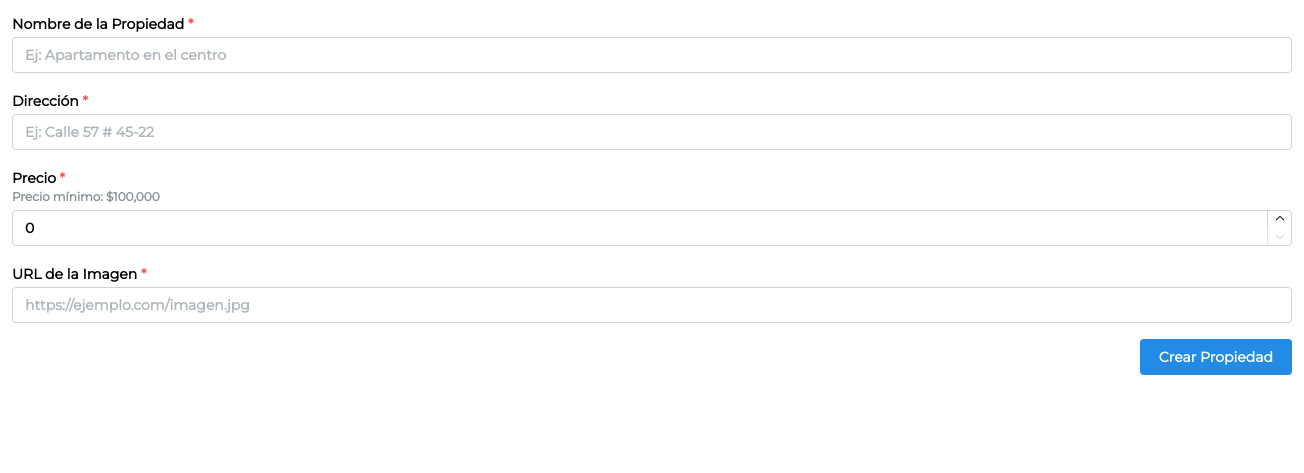
Scenario: PropertyForm › Debería mostrar errores de validación para campos no válidos.
// Llenar con datos inválidos
In the field labelled "Nombre de la Propiedad *": (652, 55) x1=12 y1=37 x2=1292 y2=73, type "Ca"
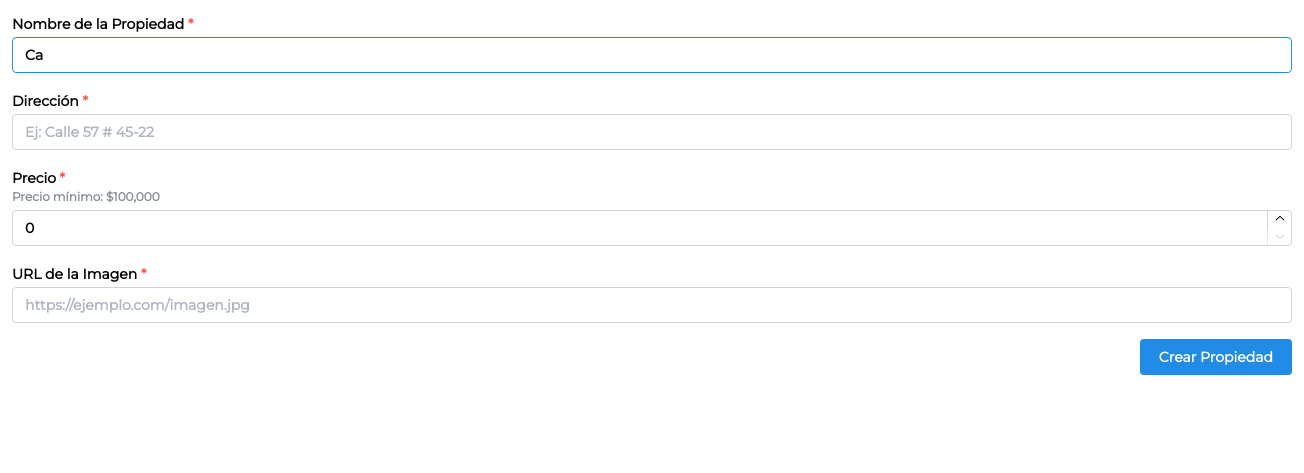
In the field labelled "Dirección *": (652, 132) x1=12 y1=114 x2=1292 y2=150, type "123"
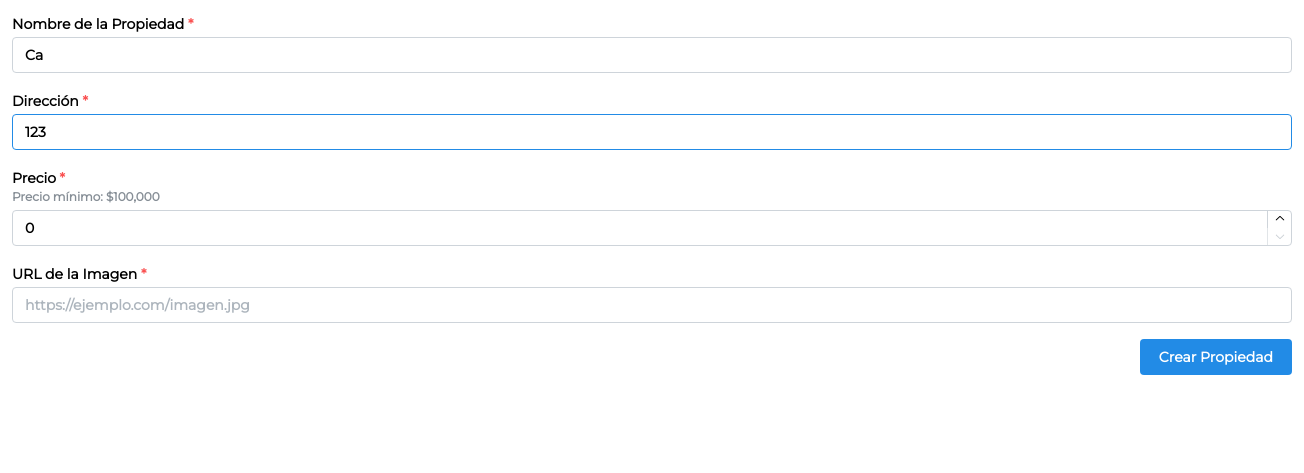
Replace the text in the field labelled "Precio *" with "50000": (652, 228) x1=12 y1=210 x2=1292 y2=246
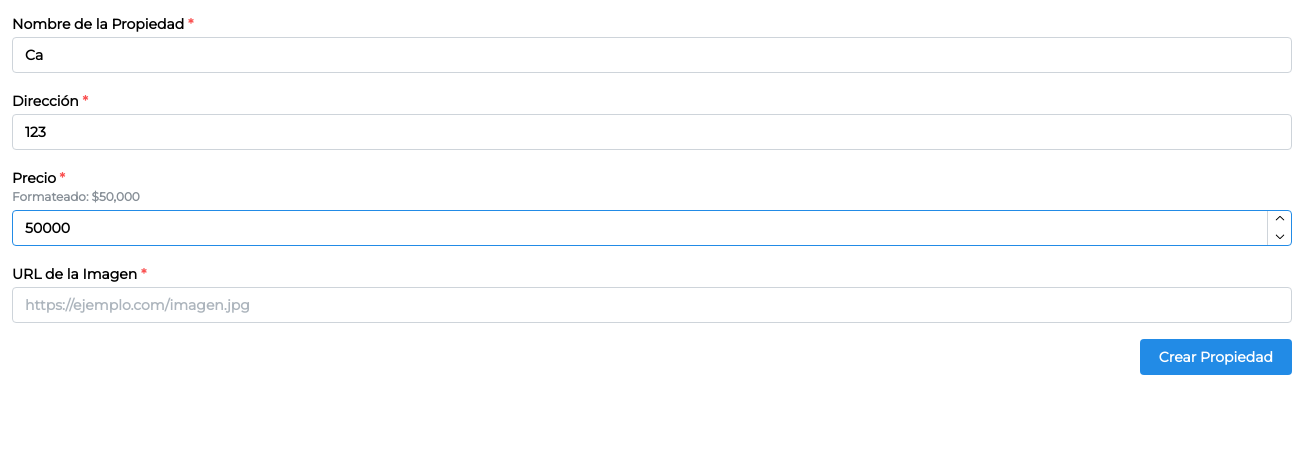
In the field labelled "URL de la Imagen *": (652, 305) x1=12 y1=287 x2=1292 y2=323, type "invalid-url"
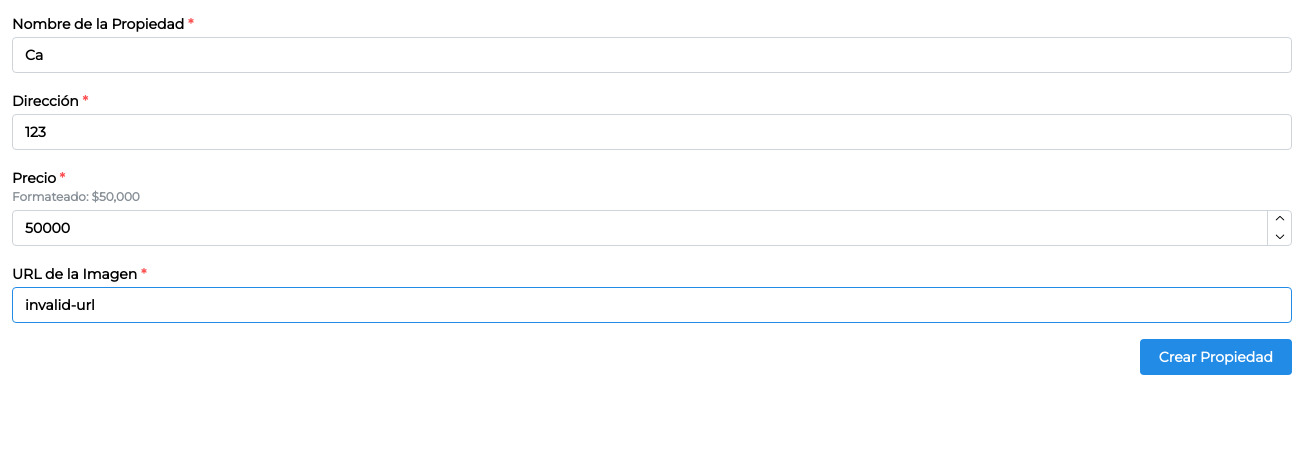
// Intentar enviar el formulario
Click the button "Crear Propiedad": (1216, 357) x1=1140 y1=339 x2=1292 y2=375
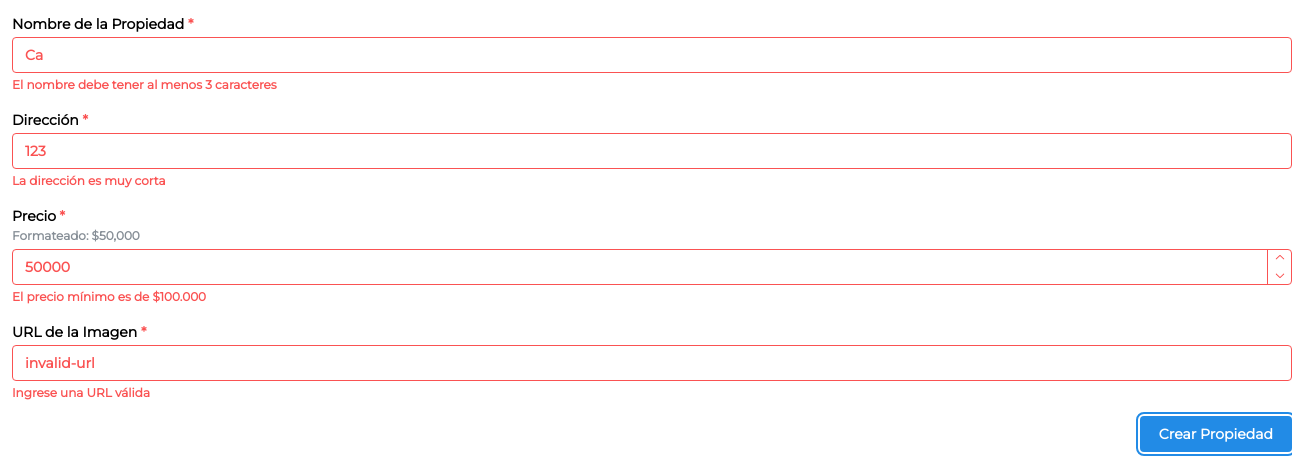
Expected: the text "El nombre debe tener al menos 3 caracteres" is shown, x1=12 y1=77 x2=277 y2=92
Expected: the text "La dirección es muy corta" is shown, x1=12 y1=173 x2=166 y2=188
Expected: the text "El precio mínimo es de $100.000" is shown, x1=12 y1=289 x2=206 y2=304
